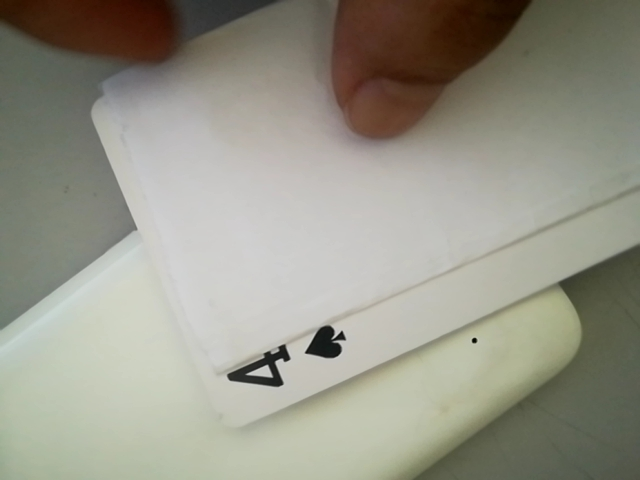ht 4: (212, 314, 370, 404)
